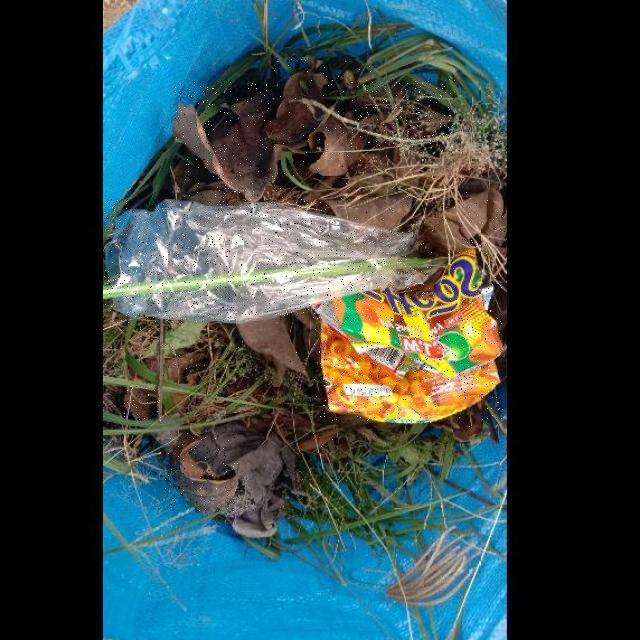biowaste: (269, 59, 384, 176), (176, 82, 283, 201), (417, 187, 506, 283), (348, 79, 455, 146), (166, 430, 238, 513), (237, 317, 312, 386), (329, 182, 425, 231), (430, 399, 483, 441), (162, 342, 207, 379), (124, 386, 161, 421), (296, 426, 340, 452)
plastic: (104, 199, 439, 323)
wrapper: (313, 246, 503, 421)
